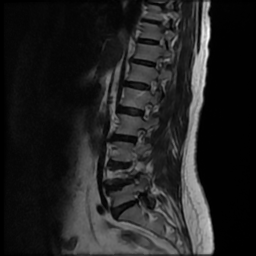RFS0: (134, 98, 160, 125)
